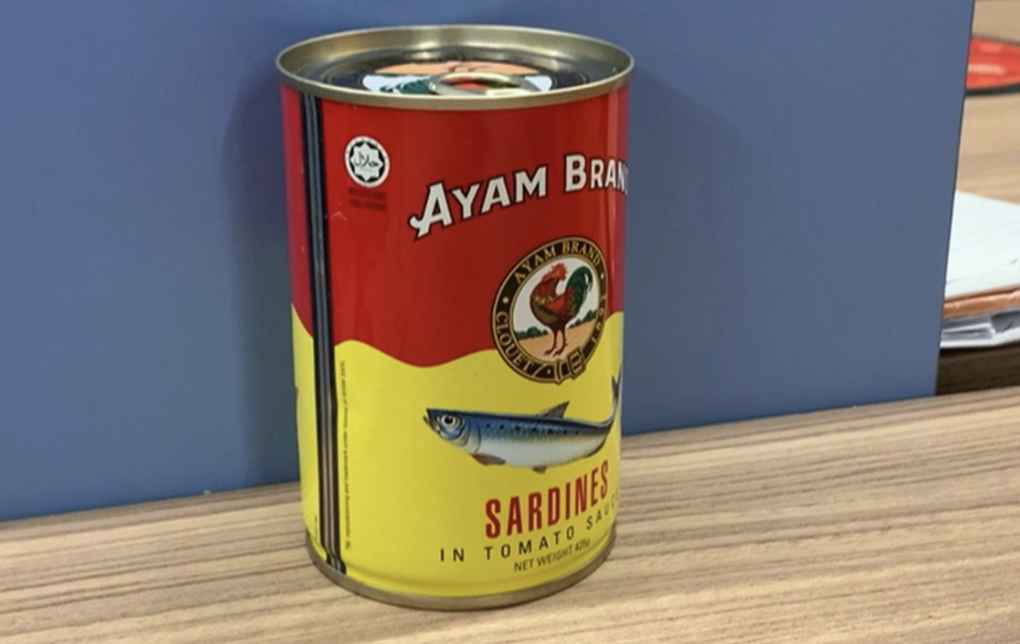sardines_450g: (299, 100, 618, 569)
